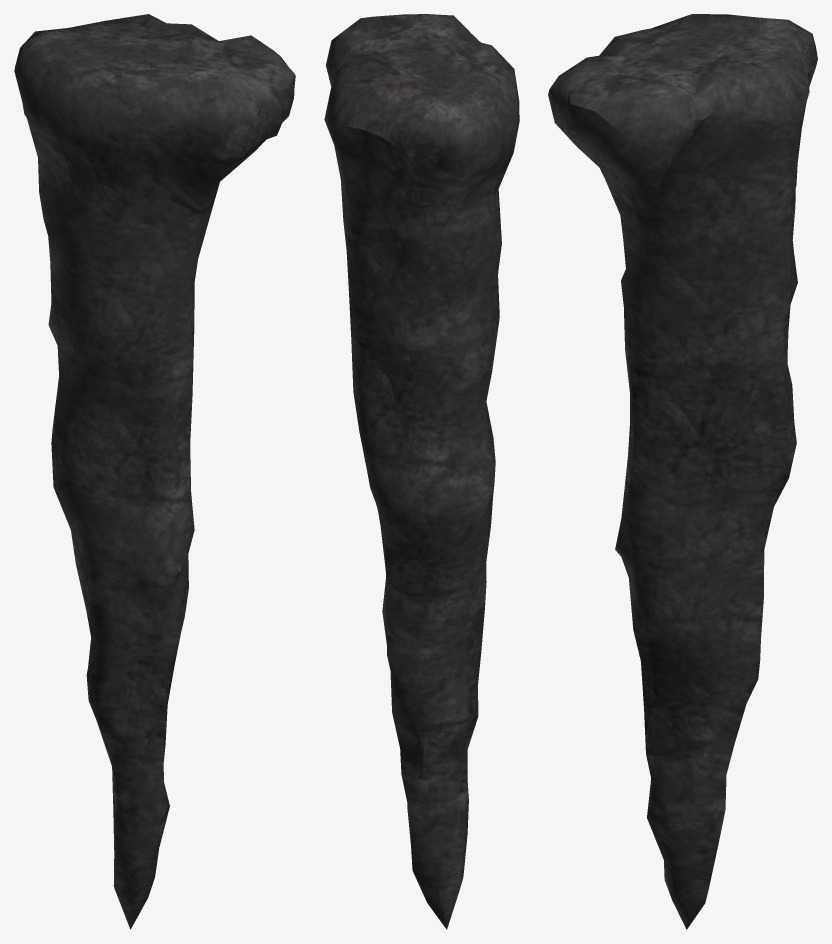
The model's file is TallTop.fbx.
3 renders of one model, left to right at view 1: azimuth 30°, elevation 25°; view 2: azimuth 150°, elevation 25°; view 3: azimuth 270°, elevation 25°, orthographic. The views are drawn at different scales.
Visible parts, largest first — view 1: TallTop; view 2: TallTop; view 3: TallTop.
Boxes of the visible parts, x1,y1,x2,y2 form: TallTop: (14, 14, 295, 929); TallTop: (324, 14, 519, 929); TallTop: (548, 14, 817, 929).
Bounding box in the file's own units: 73.24 × 289 × 79.22.
Materials: 1 (1 with a texture image).
